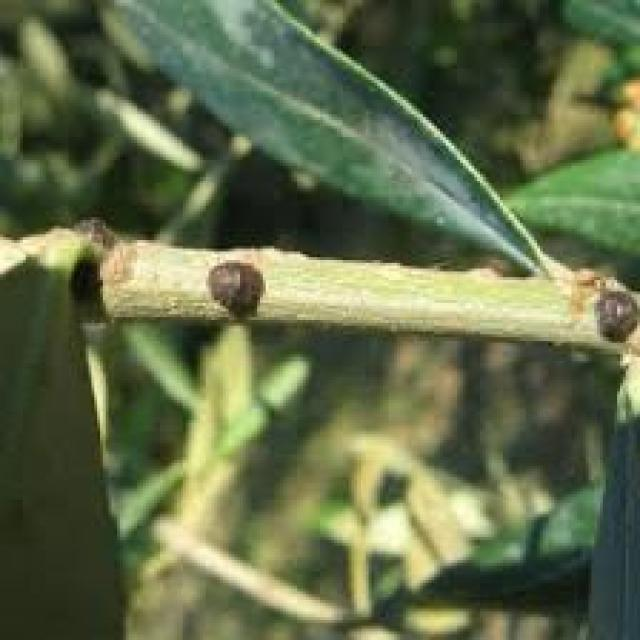BlackScale: (208, 260, 268, 317), (592, 286, 638, 343)
